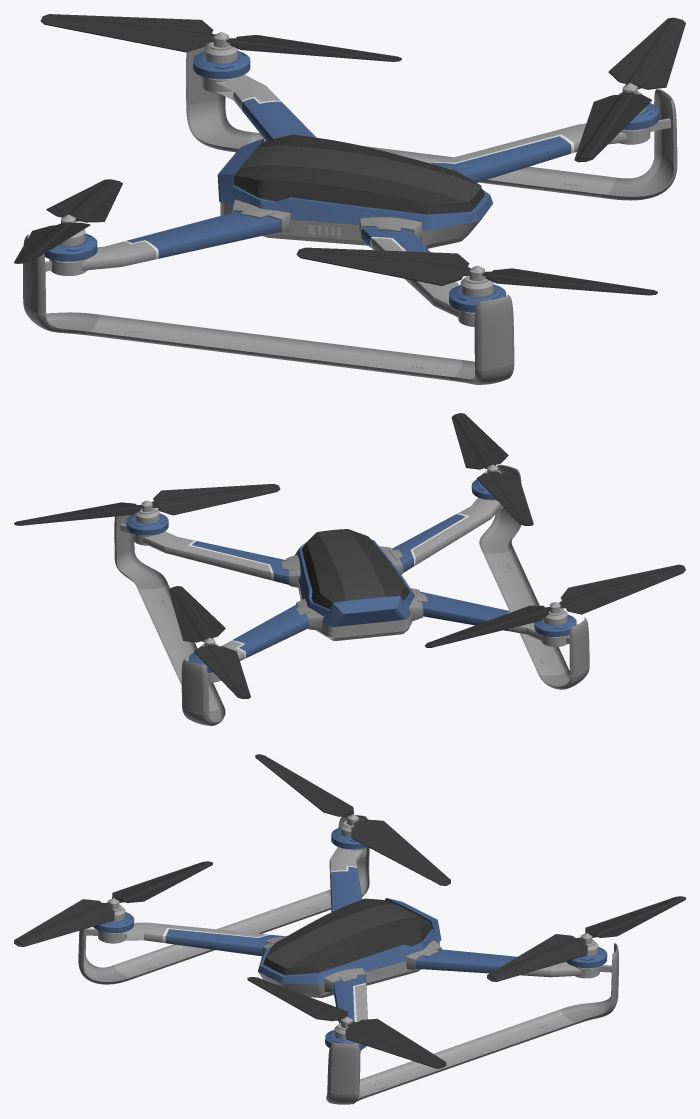
File: airplane.glb
The picture shows the model from 3 angles, top to bottom: view 1: azimuth 30°, elevation 25°; view 2: azimuth 150°, elevation 25°; view 3: azimuth 270°, elevation 25°; orthographic projection. The views are drawn at different scales.
Visible parts, largest first — view 1: object_230, object_202, object_138, object_145, object_247, object_235, object_228, object_168, object_212, object_227, object_236, object_189 (+23 smaller); view 2: object_212, object_145, object_202, object_138, object_230, object_247, object_227, object_235, object_167, object_168, object_162, object_171 (+16 smaller); view 3: object_227, object_212, object_202, object_138, object_145, object_230, object_235, object_247, object_228, object_170, object_167, object_229 (+8 smaller).
Part boxes in pixels (box(x1,y1,x2,y2)): object_230: box(85, 314, 462, 380); object_202: box(296, 247, 657, 295); object_138: box(40, 14, 401, 61); object_145: box(574, 17, 685, 162); object_247: box(217, 138, 492, 230); object_235: box(270, 145, 481, 201); object_228: box(233, 145, 484, 214); object_168: box(126, 211, 280, 258); object_212: box(14, 179, 122, 263); object_227: box(238, 132, 615, 197); object_236: box(256, 165, 467, 203); object_189: box(474, 294, 514, 369); object_212: box(424, 564, 685, 647); object_145: box(14, 484, 280, 525); object_202: box(451, 413, 533, 525); object_138: box(168, 586, 250, 698); object_230: box(481, 547, 568, 675); object_247: box(295, 539, 414, 626); object_227: box(136, 582, 223, 710); object_235: box(317, 529, 380, 587); object_167: box(232, 604, 308, 657); object_168: box(420, 591, 510, 631); object_162: box(164, 536, 271, 579); object_171: box(412, 506, 491, 564); object_227: box(359, 1009, 581, 1096); object_212: box(255, 754, 450, 885); object_202: box(14, 861, 212, 946); object_138: box(487, 896, 685, 981); object_145: box(247, 977, 446, 1068); object_230: box(114, 891, 331, 978); object_235: box(266, 906, 403, 967); object_247: box(258, 898, 441, 984); object_228: box(263, 922, 431, 975); object_170: box(165, 929, 284, 956); object_167: box(415, 949, 517, 973); object_229: box(287, 918, 421, 967).
Size of the model in its own units: 100 by 17.98 by 99.86.
